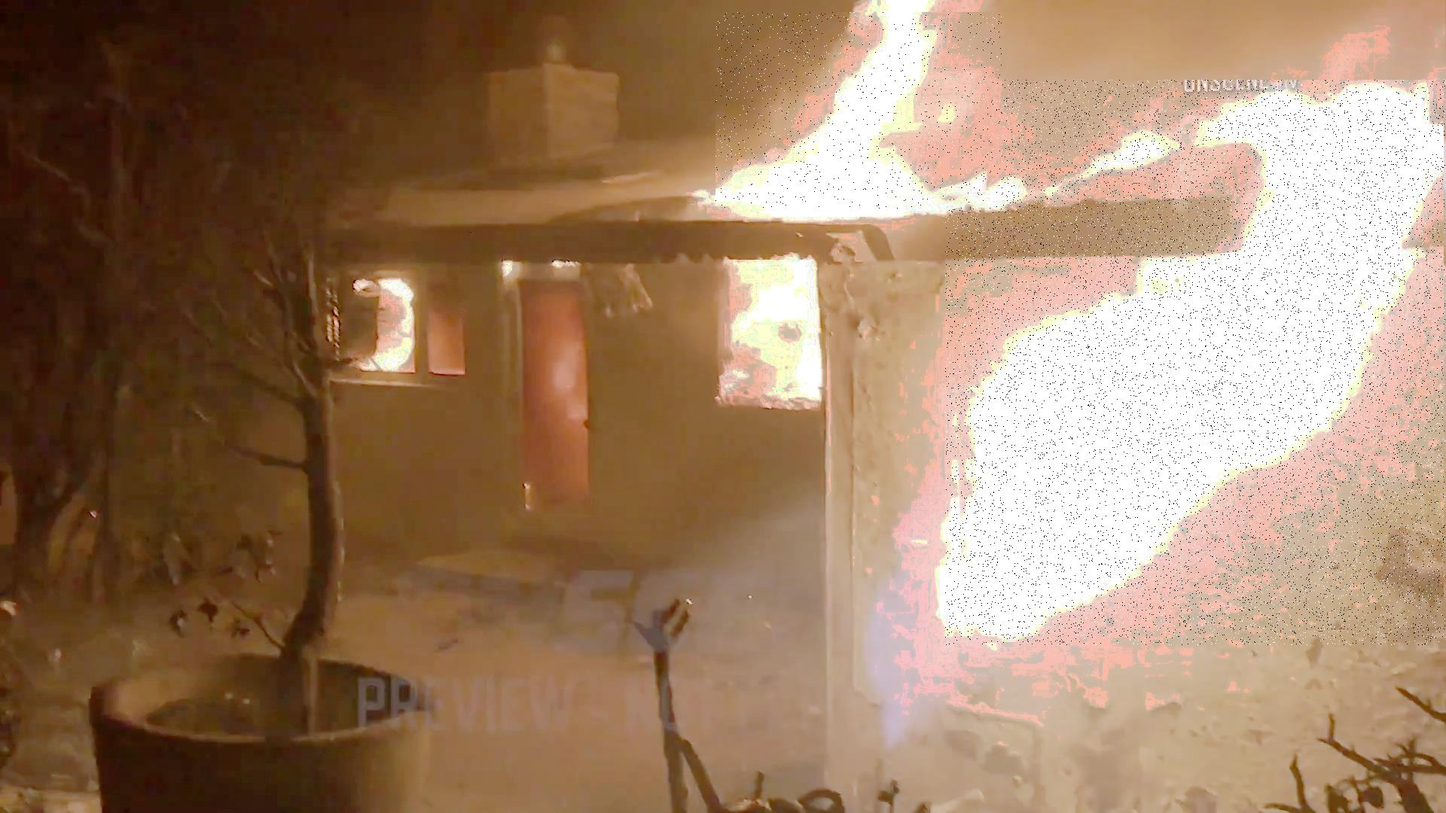fire: (946, 80, 1446, 646), (716, 13, 1002, 209), (725, 260, 829, 390)
